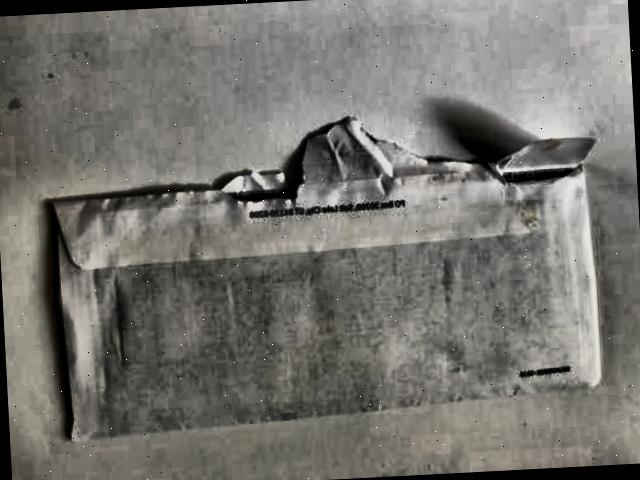Paper: (32, 100, 600, 457)
